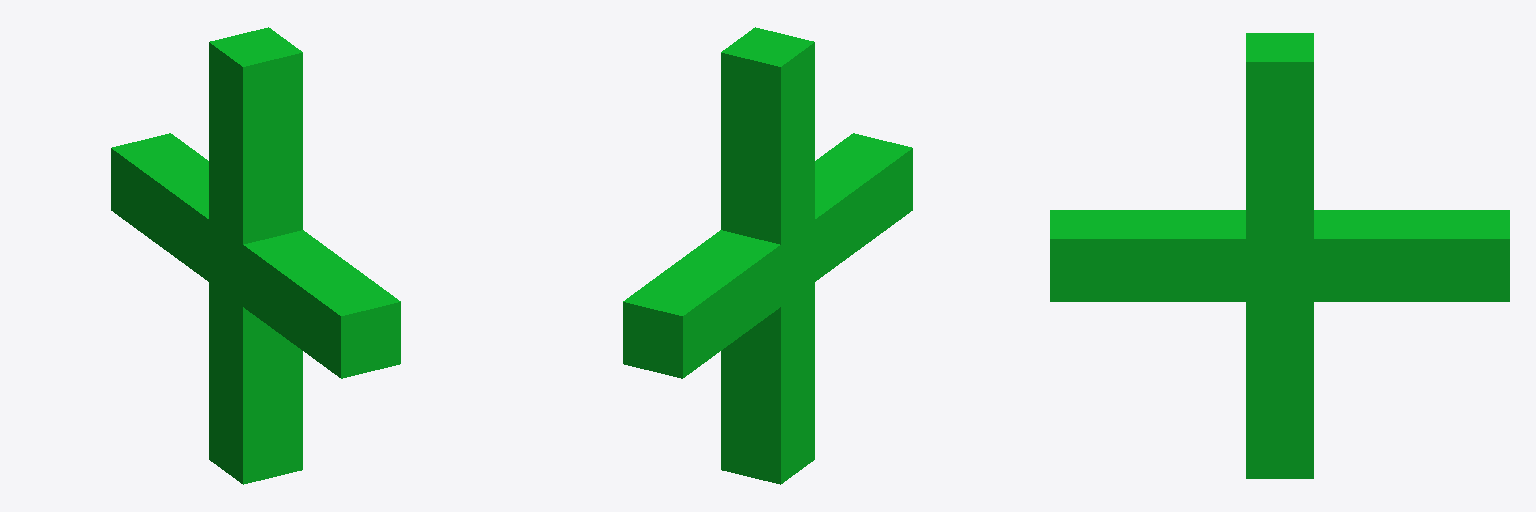
File: health.obj
The picture shows the model from 3 angles: view 1: azimuth 30°, elevation 25°; view 2: azimuth 150°, elevation 25°; view 3: azimuth 270°, elevation 25°; orthographic projection.
Parts seen in each view (by area): view 1: Cube.001; view 2: Cube.001; view 3: Cube.001.
Part boxes in pixels (x1,y1,x2,y2): Cube.001: (111, 27, 400, 484); Cube.001: (623, 27, 912, 484); Cube.001: (1050, 33, 1509, 478).
Bounding box in the file's own units: 0.3012 × 2 × 2.